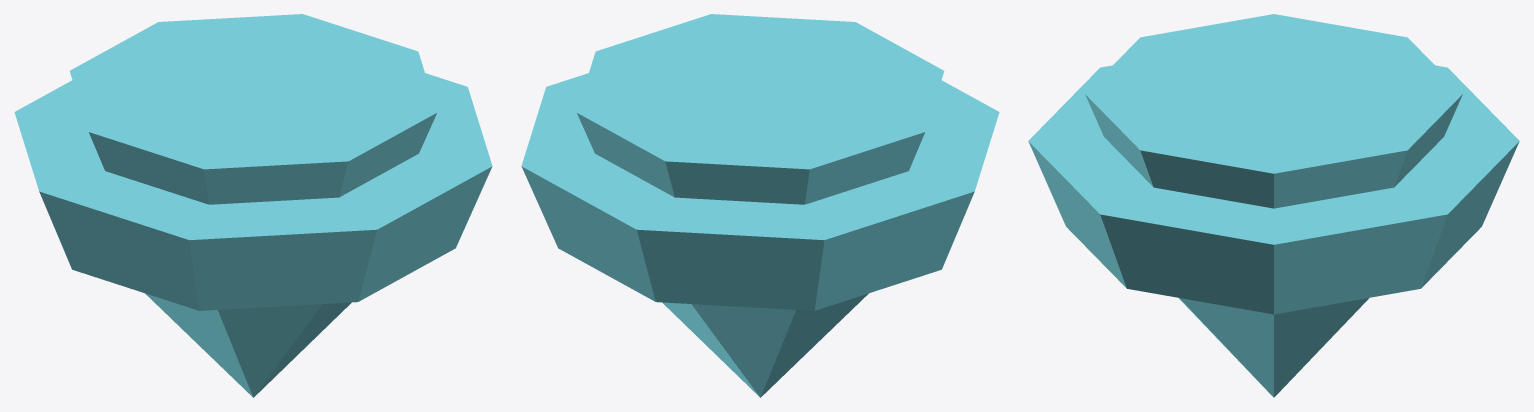
Rendered from SM_Product_Diamond.fbx.
The picture shows the model from 3 angles, left to right: view 1: azimuth 30°, elevation 25°; view 2: azimuth 150°, elevation 25°; view 3: azimuth 270°, elevation 25°; orthographic projection.
Parts seen in each view (by area): view 1: SM_Product_Diamond; view 2: SM_Product_Diamond; view 3: SM_Product_Diamond.
Part boxes in pixels (x1=…): SM_Product_Diamond: x1=14, y1=14, x2=492, y2=397; SM_Product_Diamond: x1=521, y1=14, x2=999, y2=397; SM_Product_Diamond: x1=1028, y1=14, x2=1519, y2=397.
Bounding box in the file's own units: 0.52 × 0.355 × 0.52.
